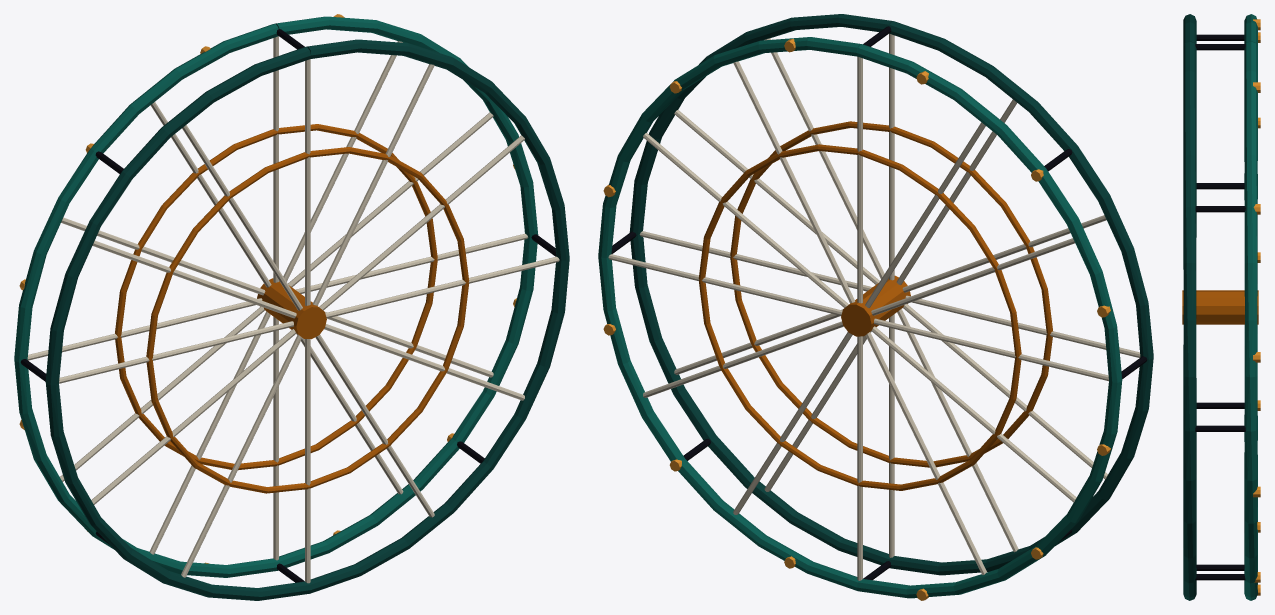
The model's file is Carnival_Prop_Wheel_Rotor.fbx.
3 views of the same model, side by side, from view 1: azimuth 30°, elevation 25°; view 2: azimuth 150°, elevation 25°; view 3: azimuth 270°, elevation 25° (orthographic). The views are drawn at different scales.
Parts seen in each view (by area): view 1: Carnival_Prop_Wheel_Rotor; view 2: Carnival_Prop_Wheel_Rotor; view 3: Carnival_Prop_Wheel_Rotor.
Boxes of the visible parts, x1,y1,x2,y2 form: Carnival_Prop_Wheel_Rotor: (14, 14, 569, 600); Carnival_Prop_Wheel_Rotor: (598, 14, 1153, 600); Carnival_Prop_Wheel_Rotor: (1182, 14, 1260, 600).
Bounding box in the file's own units: 6.14 × 6.14 × 0.82.
